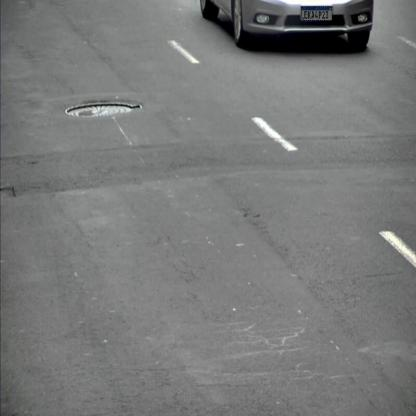PlacaM: (301, 6, 332, 21)
